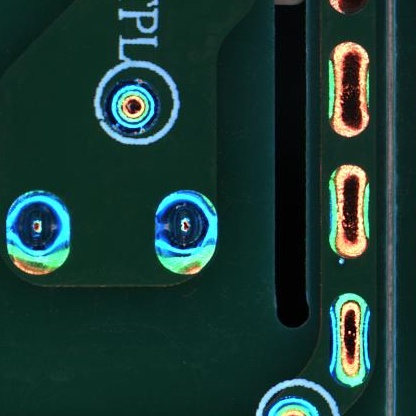spot: (5, 190, 70, 277), (154, 190, 219, 276), (106, 80, 159, 133), (270, 395, 319, 416)
